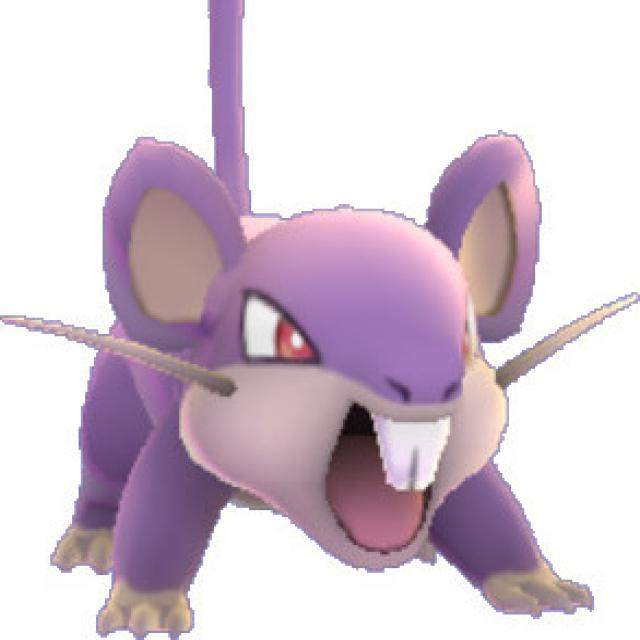Rattata: (56, 126, 563, 626)
